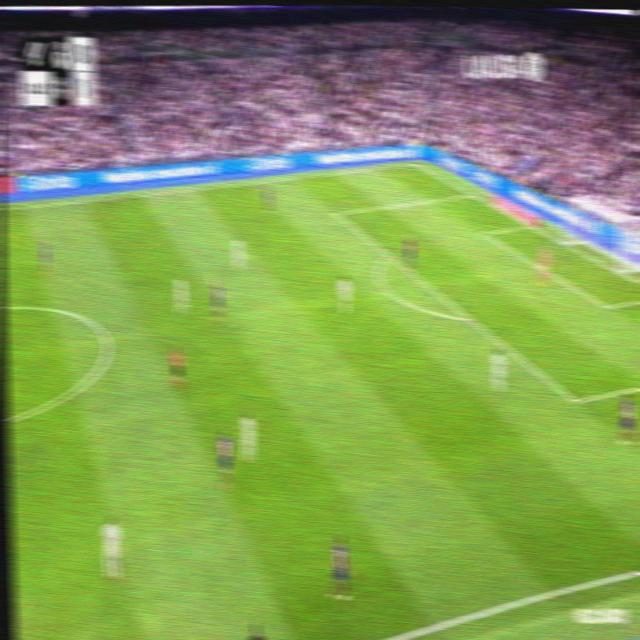bigarea_bottom_inner: (568, 388, 582, 412)
bigarea_top_inner: (332, 207, 341, 219)
bottom_arc_area_intersection: (462, 309, 476, 325)
corner: (409, 158, 419, 167)
smallarea_top_inner: (480, 228, 488, 236)
top_arc_area_intersection: (384, 247, 394, 261)
